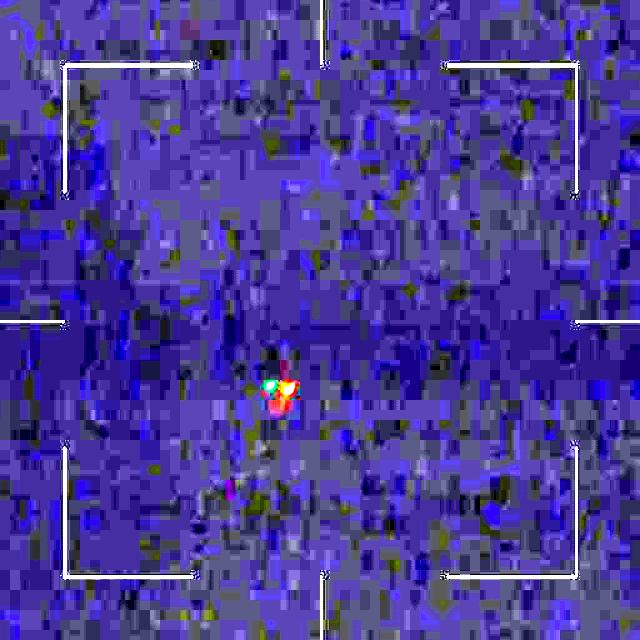bird: (266, 374, 299, 416)
